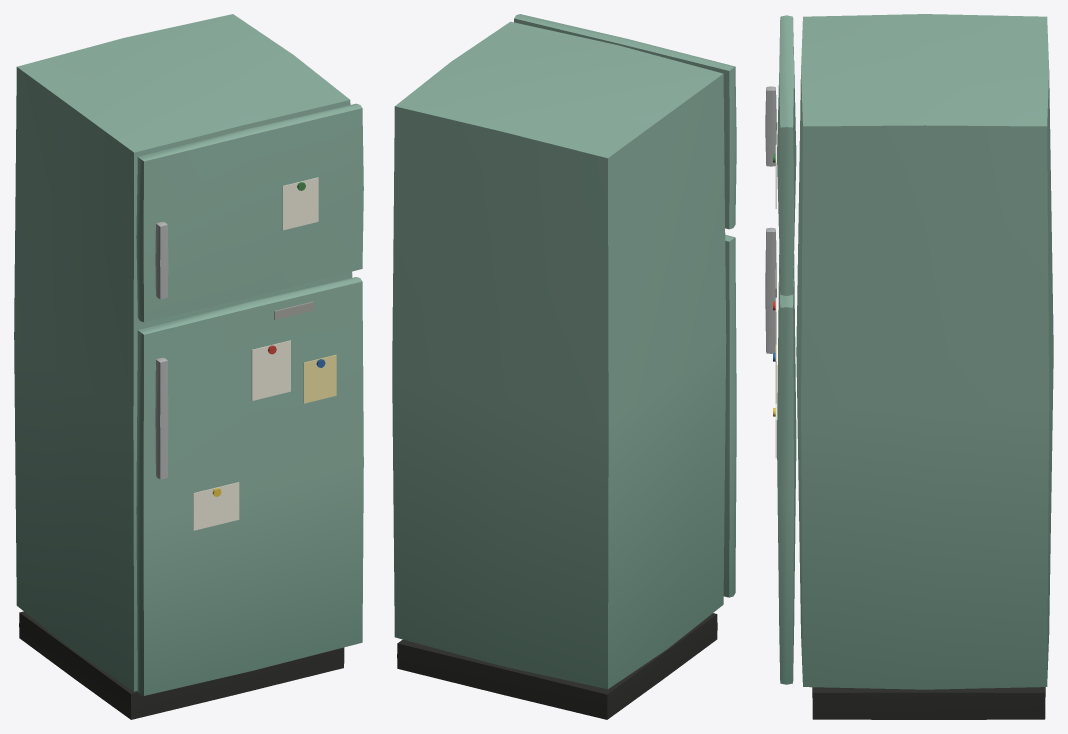
Rendered from fridge.glb.
3 renders of one model, left to right at view 1: azimuth 30°, elevation 25°; view 2: azimuth 150°, elevation 25°; view 3: azimuth 270°, elevation 25°, orthographic. The views are drawn at different scales.
Visible parts, largest first — view 1: body, fridge_door, freezer_door, kick, note_0, note_2, note_3, handle_bot, note_1, handle_top; view 2: body, kick, fridge_door, freezer_door; view 3: body, kick, fridge_door, freezer_door, handle_bot, handle_top.
Part boxes in pixels (x1,y1,x2,y2): body: (14,14,352,691); fridge_door: (136,277,363,695); freezer_door: (136,103,363,321); kick: (19,611,344,719); note_0: (251,340,290,400); note_2: (193,482,239,530); note_3: (282,177,318,230); handle_bot: (155,357,168,479); note_1: (303,355,336,403); handle_top: (155,221,168,299); body: (392,21,726,689); kick: (397,613,717,719); fridge_door: (723,234,736,597); freezer_door: (514,14,736,229); body: (796,14,1053,689); kick: (812,687,1045,719); fridge_door: (777,254,796,684); freezer_door: (777,15,796,295); handle_bot: (765,227,776,353); handle_top: (765,86,776,166).
Bounding box in the file's own units: 0.7 × 1.7 × 0.74.
